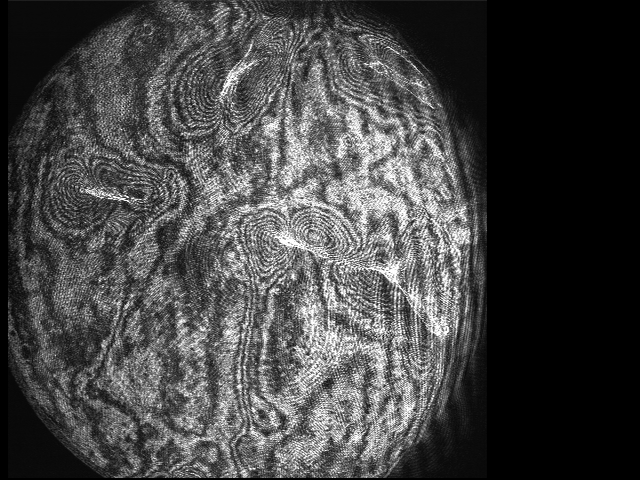plume: (167, 35, 285, 127), (234, 202, 358, 274), (54, 154, 183, 222)
